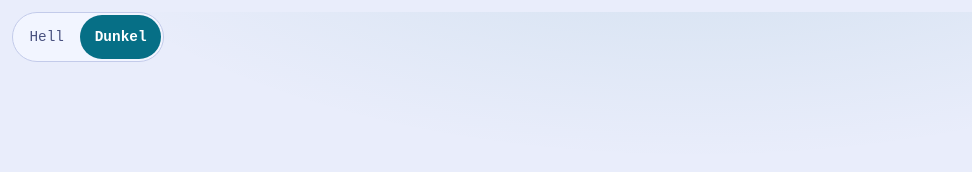
Test: theme switch › shows the active theme and switches on click
Step 1. Click the button "Hell" → (47, 37), box [15,15,78,59]
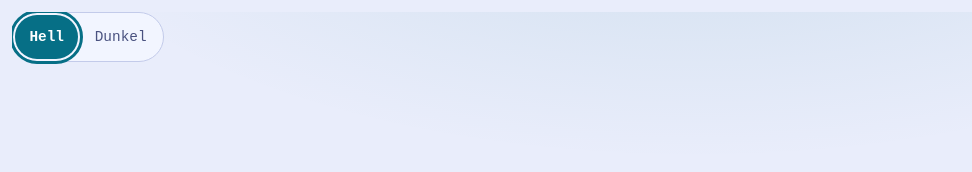
Expected: the button "Hell" is pressed, [15,15,78,59]
Expected: the button "Dunkel" is not pressed, [80,15,161,59]
